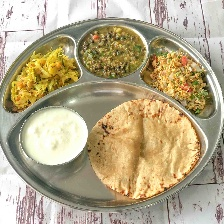sabzi: (9, 44, 77, 110)
